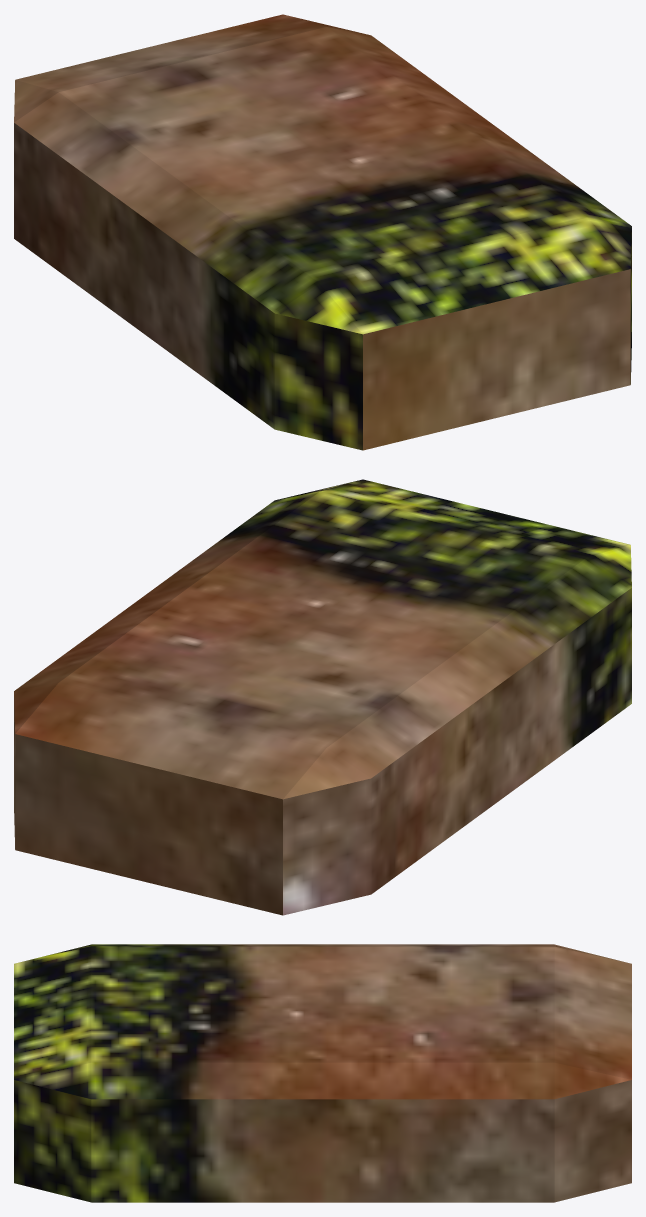
Rendered from plat_0.fbx.
The picture shows the model from 3 angles, top to bottom: view 1: azimuth 30°, elevation 25°; view 2: azimuth 150°, elevation 25°; view 3: azimuth 270°, elevation 25°; orthographic projection. The views are drawn at different scales.
Parts seen in each view (by area): view 1: Cube.001; view 2: Cube.001; view 3: Cube.001.
Part boxes in pixels (bbox=[...]): Cube.001: bbox=[14, 14, 631, 450]; Cube.001: bbox=[14, 479, 631, 915]; Cube.001: bbox=[14, 944, 631, 1202].
Size of the model in its own units: 84.35 by 34.97 by 142.
1 material, 1 textured.
